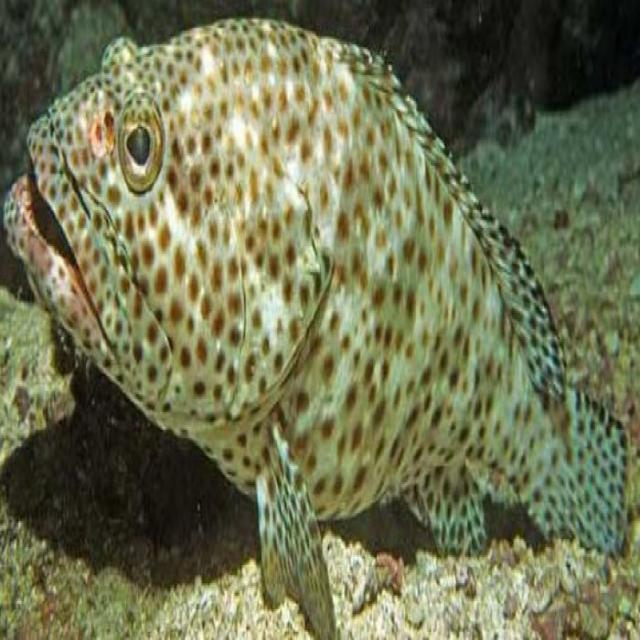grouper: (2, 9, 626, 621)
